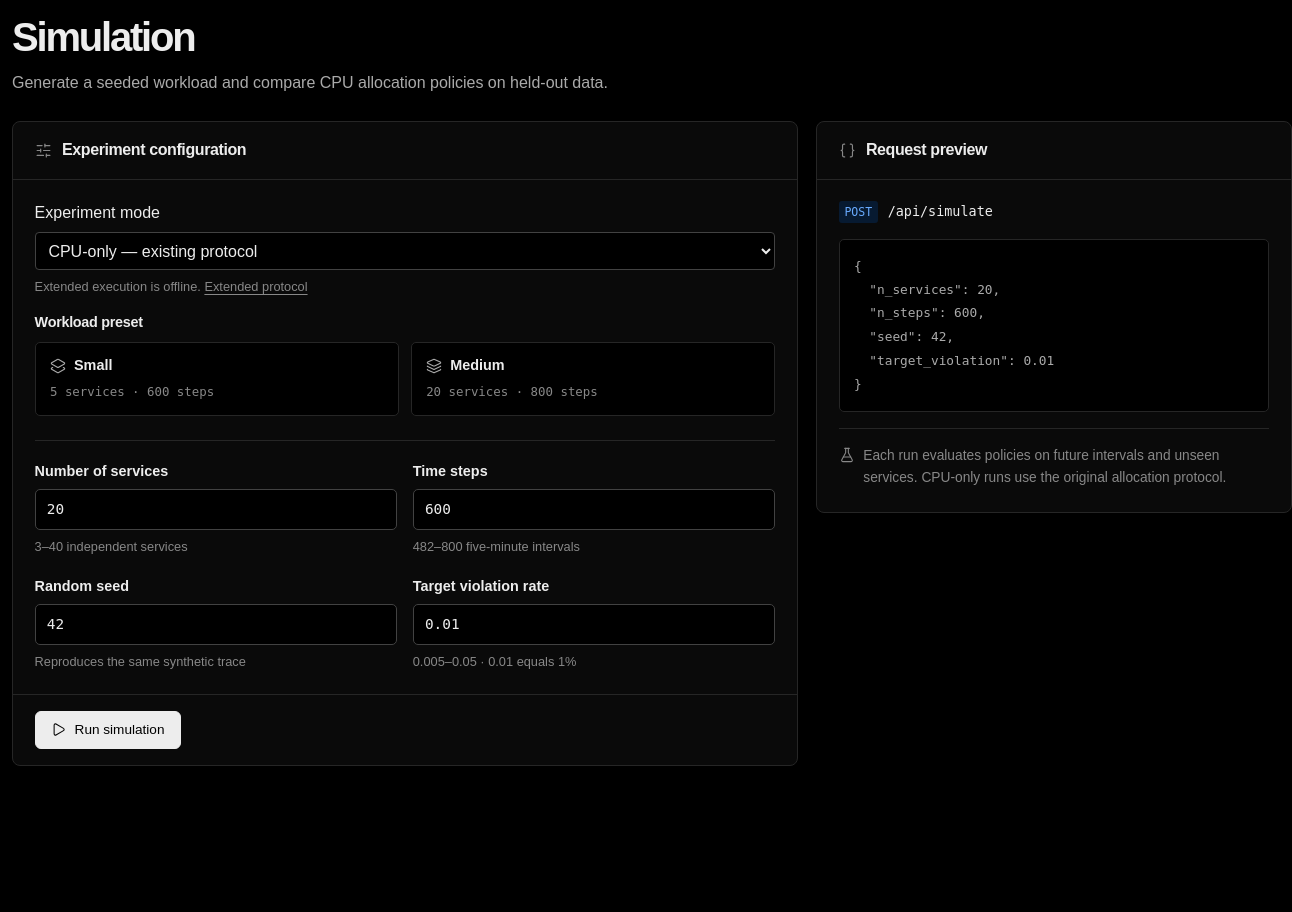
Test case: SimulatePage › loads limits and applies presets correctly
The width and height of the screenshot is (1292, 912).
Expected: the heading "Simulation" is shown, [12,15,194,59]
Expected: the text "3–40 independent services" is shown, [35,539,188,554]
Click the button "Small 5 services · 600 steps" at (93, 365), box [35,342,399,416]
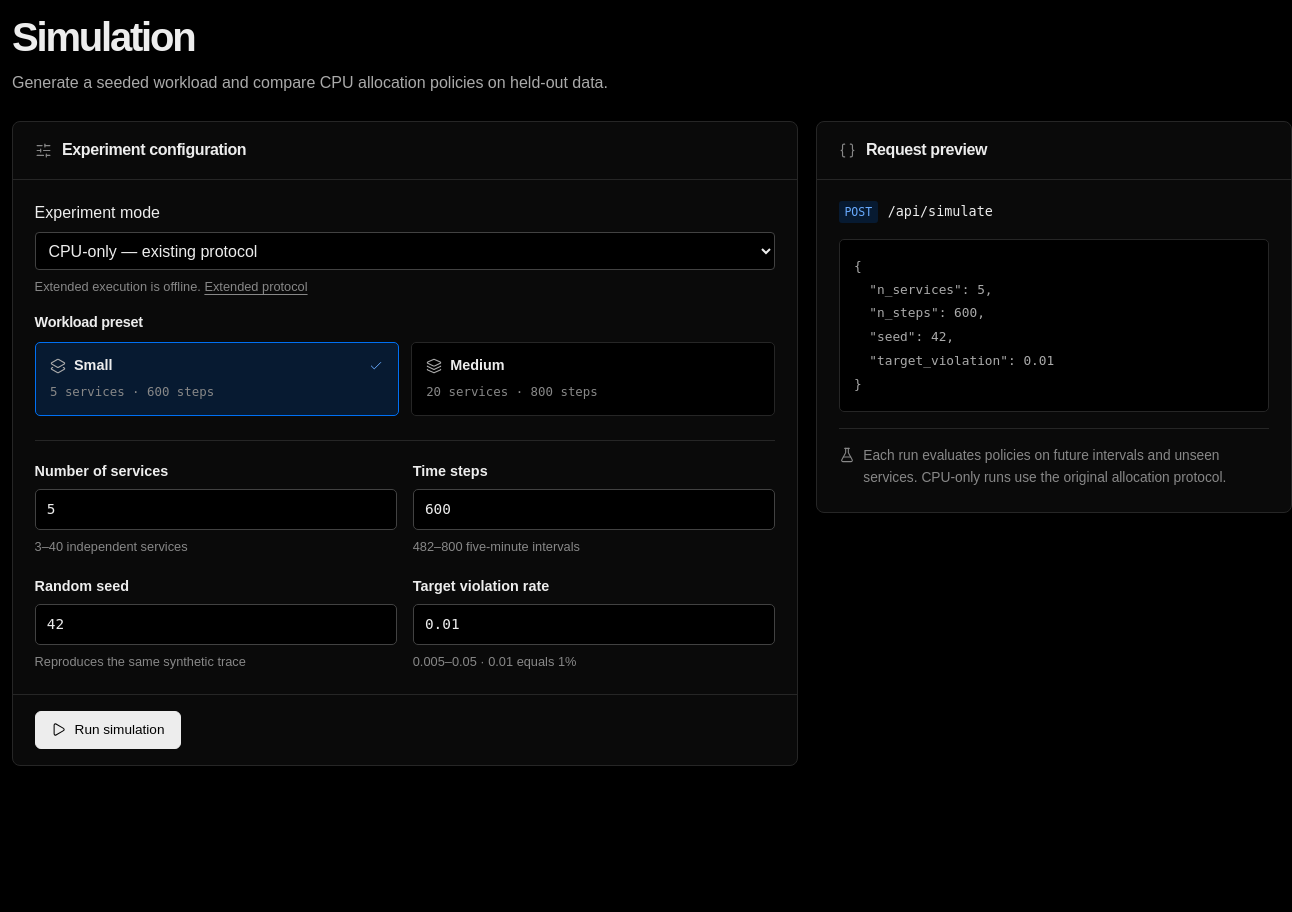
Expected: the number field labelled "Time steps" holds "600", [413,489,775,530]
Expected: the number field labelled "Number of services" holds "5", [35,489,397,530]
Click the button "Medium 20 services · 800 steps" at (477, 365), box [411,342,775,416]
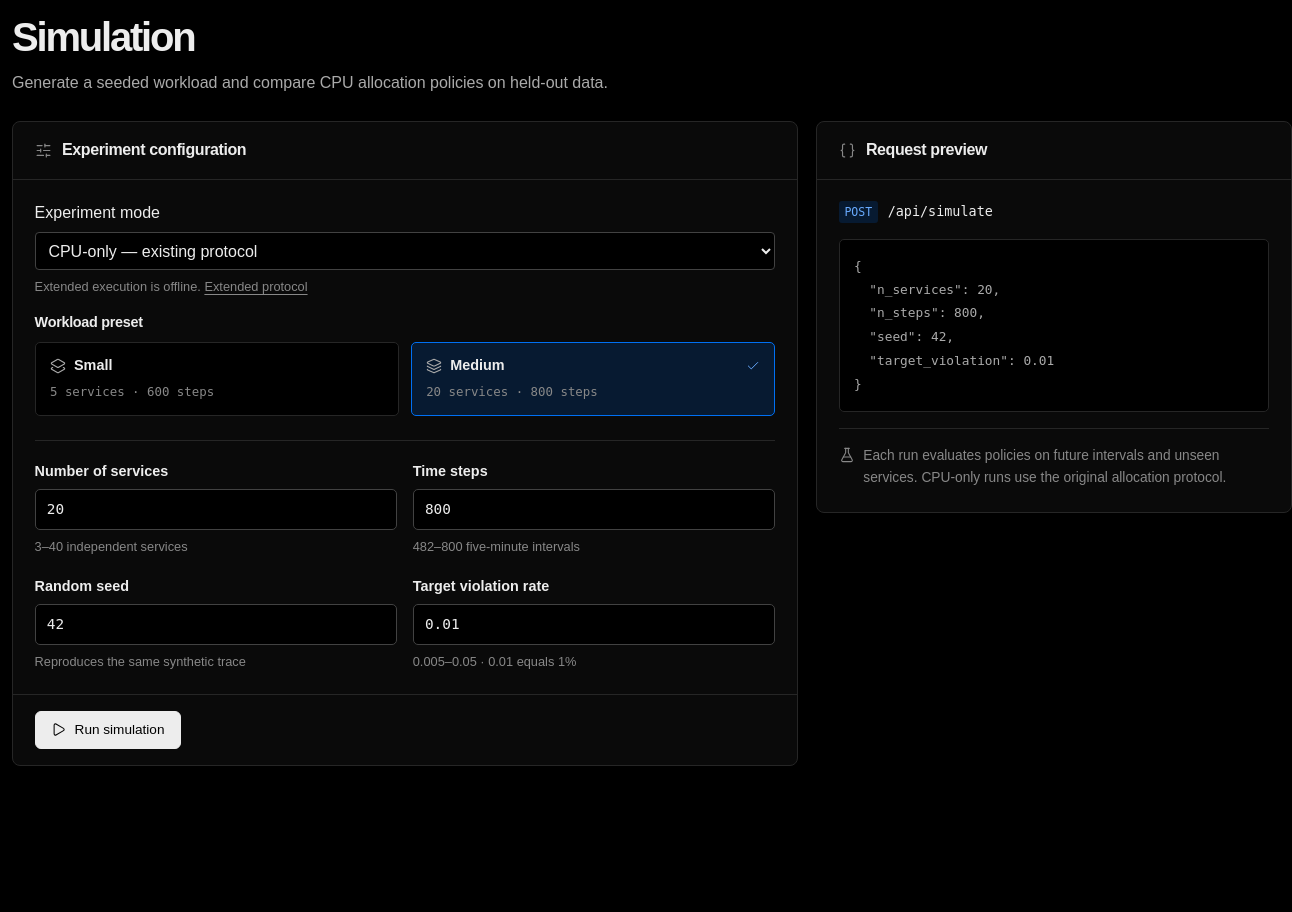
Expected: the number field labelled "Number of services" holds "20", [35,489,397,530]
Expected: the number field labelled "Time steps" holds "800", [413,489,775,530]
